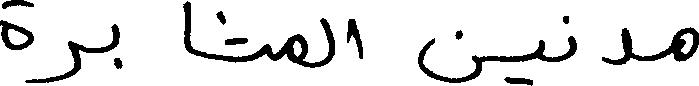X: (29, 0, 77, 85), (419, 25, 477, 85), (218, 6, 269, 67), (0, 0, 27, 85), (507, 35, 543, 85), (604, 23, 628, 69), (677, 22, 698, 66), (290, 29, 305, 71), (564, 11, 574, 64), (323, 13, 332, 70), (353, 14, 362, 63), (112, 19, 120, 73), (186, 0, 190, 85)
